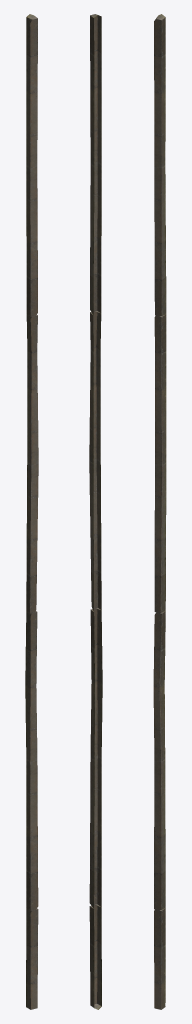
The model's file is border_40m_edge.glb.
3 views of the same model, side by side, from view 1: azimuth 30°, elevation 25°; view 2: azimuth 210°, elevation 25°; view 3: azimuth 330°, elevation 25° (orthographic).
Parts seen in each view (by area): view 1: set_0_group_0; view 2: set_0_group_0; view 3: set_0_group_0.
Part boxes in pixels (box(x1,y1,x2,y2)): set_0_group_0: box(25, 14, 38, 1009); set_0_group_0: box(89, 14, 102, 1009); set_0_group_0: box(153, 14, 166, 1009).
Bounding box in the file's own units: 0.3891 × 40.21 × 0.3276.
Materials: 1 (1 with a texture image).
